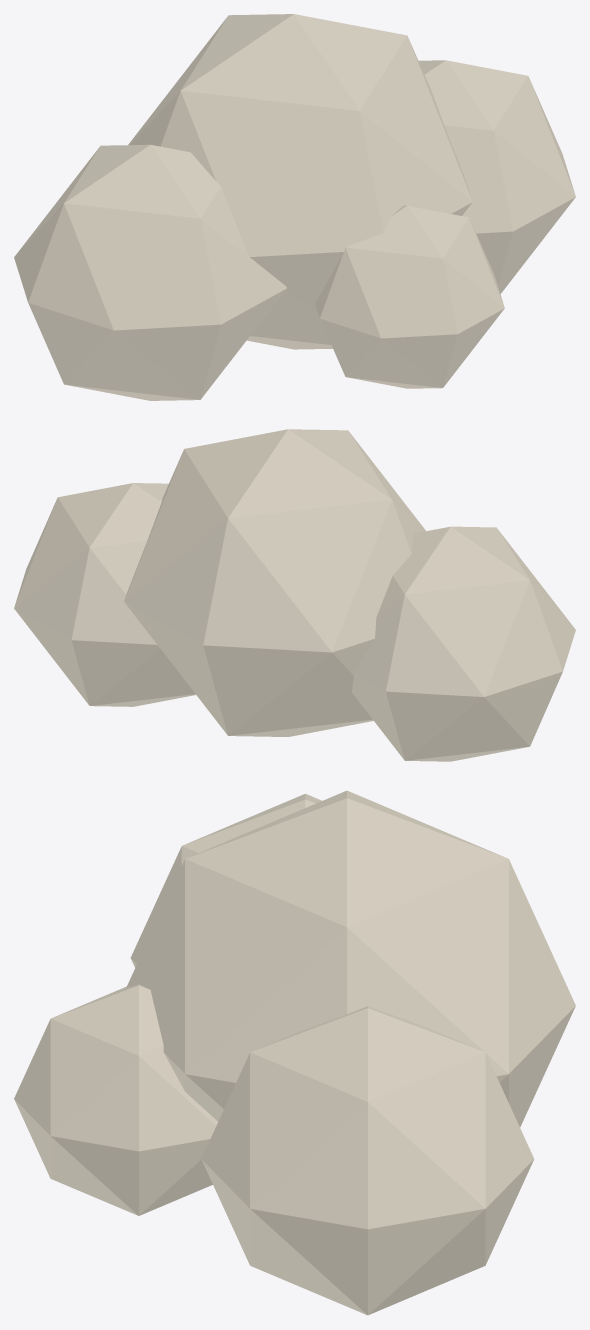
Rendered from dust.glb.
The picture shows the model from 3 angles, top to bottom: view 1: azimuth 30°, elevation 25°; view 2: azimuth 150°, elevation 25°; view 3: azimuth 270°, elevation 25°; orthographic projection. The views are drawn at different scales.
Size of the model in its own units: 1.92 by 1.1 by 1.35.
